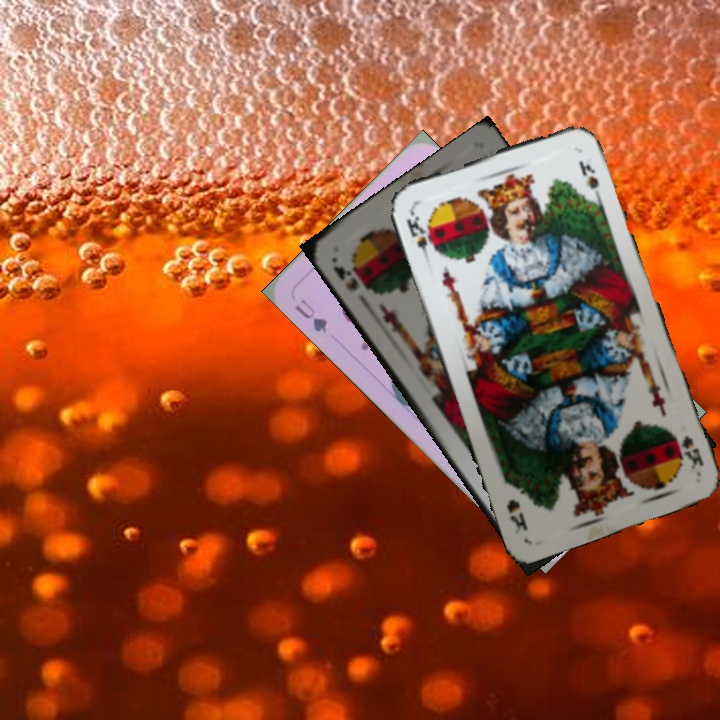GU: (290, 295, 330, 336)
SK: (402, 207, 433, 265), (670, 430, 707, 472), (329, 261, 361, 294)
